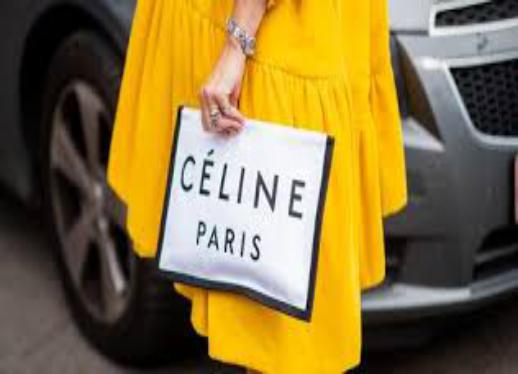CELINE: (177, 142, 311, 226)
